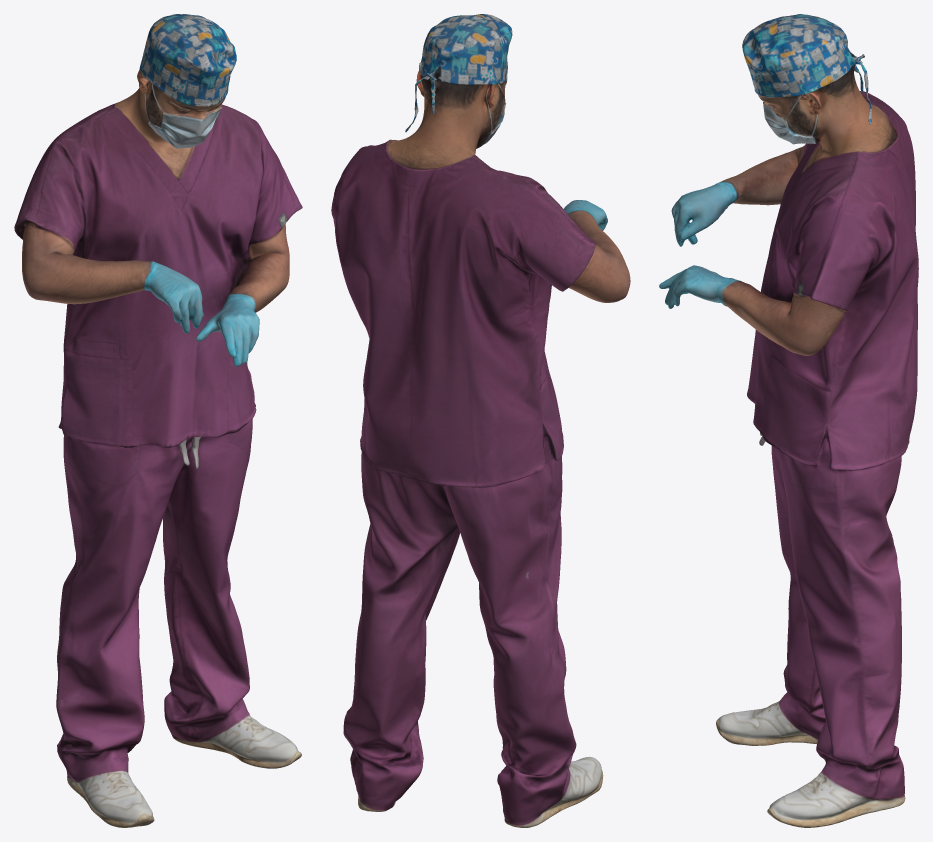
Rendered from doctor_realistic.glb.
3 renders of one model, left to right at view 1: azimuth 30°, elevation 25°; view 2: azimuth 150°, elevation 25°; view 3: azimuth 270°, elevation 25°, orthographic.
Visible parts, largest first — view 1: Object_2; view 2: Object_2; view 3: Object_2.
Boxes of the visible parts, x1,y1,x2,y2 form: Object_2: (14, 14, 302, 827); Object_2: (331, 14, 630, 827); Object_2: (659, 14, 918, 827).
Bounding box in the file's own units: 70.33 × 182 × 56.49.
1 material, 1 textured.
